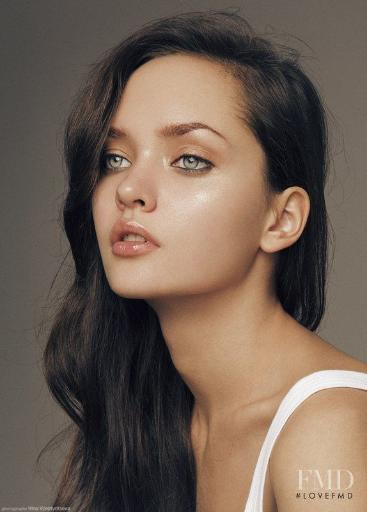left_eye: (171, 154, 217, 180)
left_lip_corner: (155, 237, 164, 255)
right_eye: (104, 154, 133, 176)
right_lip_corner: (111, 235, 119, 253)
